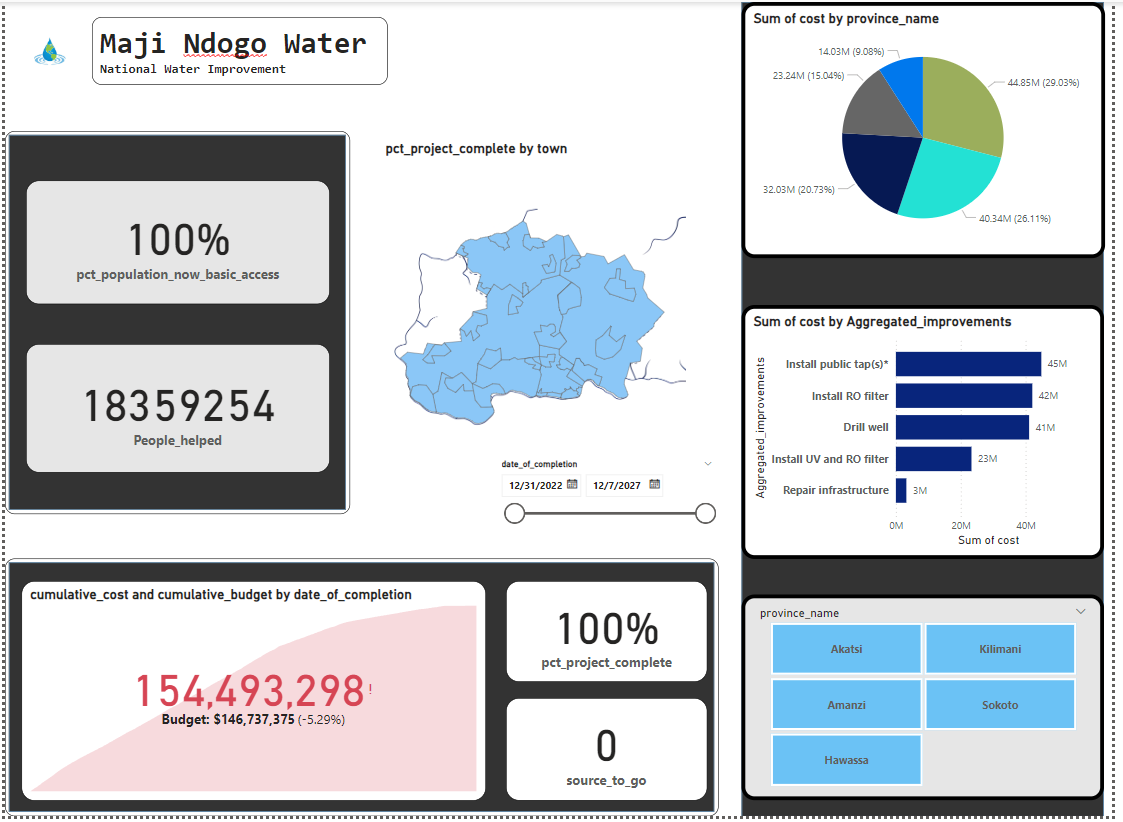

The dashboard page shown, as its layout file describes it:
{"tool":"powerbi","page":{"name":"National","canvas":[1350,1000],"ordinal":0},"visuals":[{"type":"image","box":[478,231,370,296],"z":0},{"type":"shape","box":[20.3,174.6,418.1,454.7],"z":1000},{"type":"shape","box":[20.3,669.8,856.6,330.9],"z":2000},{"type":"shape","box":[891.1,0,458.7,1000.7],"z":3000},{"type":"shapeMap","fields":{"Category":["project_progress.town"],"Value":["project_progress.pct_project_complete"]},"box":[471,188,365,358],"z":4000},{"type":"card","fields":{"Values":["project_progress.pct_project_complete"]},"box":[617.1,708.4,247.6,127.9],"z":5000},{"type":"card","fields":{"Values":["project_progress.source_to_go"]},"box":[615,854.6,247.6,125.8],"z":6000},{"type":"card","fields":{"Values":["water_source.population_now_basic_access"]},"box":[42.6,422.2,373.5,158.3],"z":7000},{"type":"card","fields":{"Values":["water_source.pct_population_now_basic_access"]},"box":[42.6,227.3,373.5,152.2],"z":8000},{"type":"slicer","fields":{"Values":["project_progress.date_of_completion"]},"box":[552.1,546,284.2,99.5],"z":9000},{"type":"kpi","fields":{"Indicator":["project_progress.cumulative_cost"],"TrendLine":["project_progress.date_of_completion"],"Goal":["project_progress.cumulative_budget"]},"box":[32.5,708.4,570.4,272],"z":10000},{"type":"pieChart","fields":{"Y":["Sum(project_progress.cost)"],"Category":["location.province_name"]},"box":[897.2,16.2,446.6,314.6],"z":11000},{"type":"clusteredBarChart","fields":{"Category":["project_progress.Aggregated_improvements"],"Y":["Sum(project_progress.cost)"]},"box":[897.2,367.4,444.5,312.6],"z":12000},{"type":"slicer","fields":{"Values":["location.province_name"]},"box":[905.3,708.4,444.5,272],"z":13000},{"type":"textbox","box":[111.6,16.2,359.3,99.5],"z":14000},{"type":"image","box":[0,16,111.9,99.9],"z":15000}]}

Visuals, with their boxes in screenshot pixels (x1, y1, x2, y2), scaled from the page's 1350x1000 canvas onto the 1123x822 screenshot:
image: [398, 190, 705, 433]
shape: [17, 144, 365, 517]
shape: [17, 551, 729, 821]
shape: [741, 0, 1122, 821]
shapeMap - project_progress.town x project_progress.pct_project_complete: [392, 155, 695, 449]
card - project_progress.pct_project_complete: [513, 582, 719, 687]
card - project_progress.source_to_go: [512, 702, 718, 806]
card - water_source.population_now_basic_access: [35, 347, 346, 477]
card - water_source.pct_population_now_basic_access: [35, 187, 346, 312]
slicer - project_progress.date_of_completion: [459, 449, 696, 531]
kpi - project_progress.cumulative_cost x project_progress.date_of_completion: [27, 582, 502, 806]
pieChart - Sum(project_progress.cost) x location.province_name: [746, 13, 1118, 272]
clusteredBarChart - project_progress.Aggregated_improvements x Sum(project_progress.cost): [746, 302, 1116, 559]
slicer - location.province_name: [753, 582, 1122, 806]
textbox: [93, 13, 392, 95]
image: [0, 13, 93, 95]
